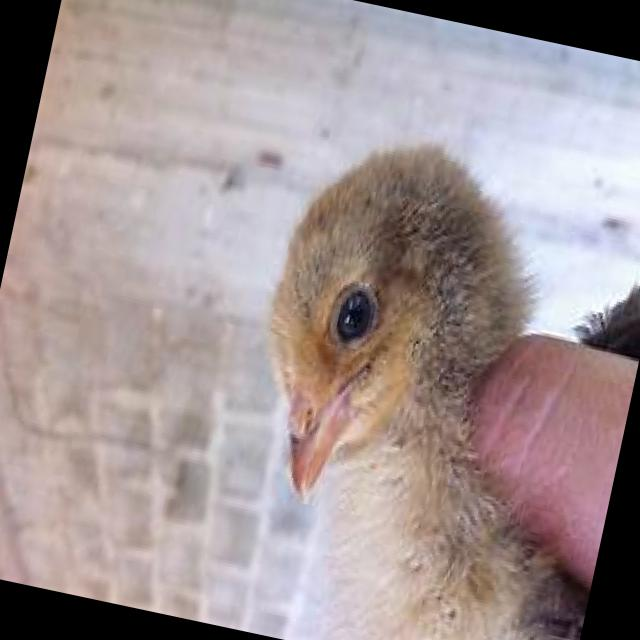animal: (202, 113, 640, 640)
